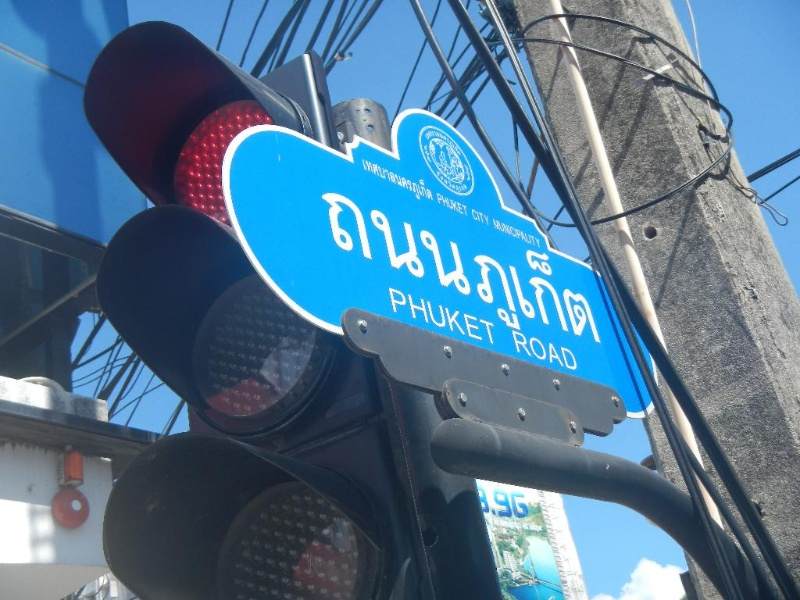red_light: (88, 18, 306, 229)
